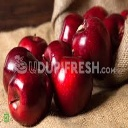apple: (7, 65, 53, 127)
